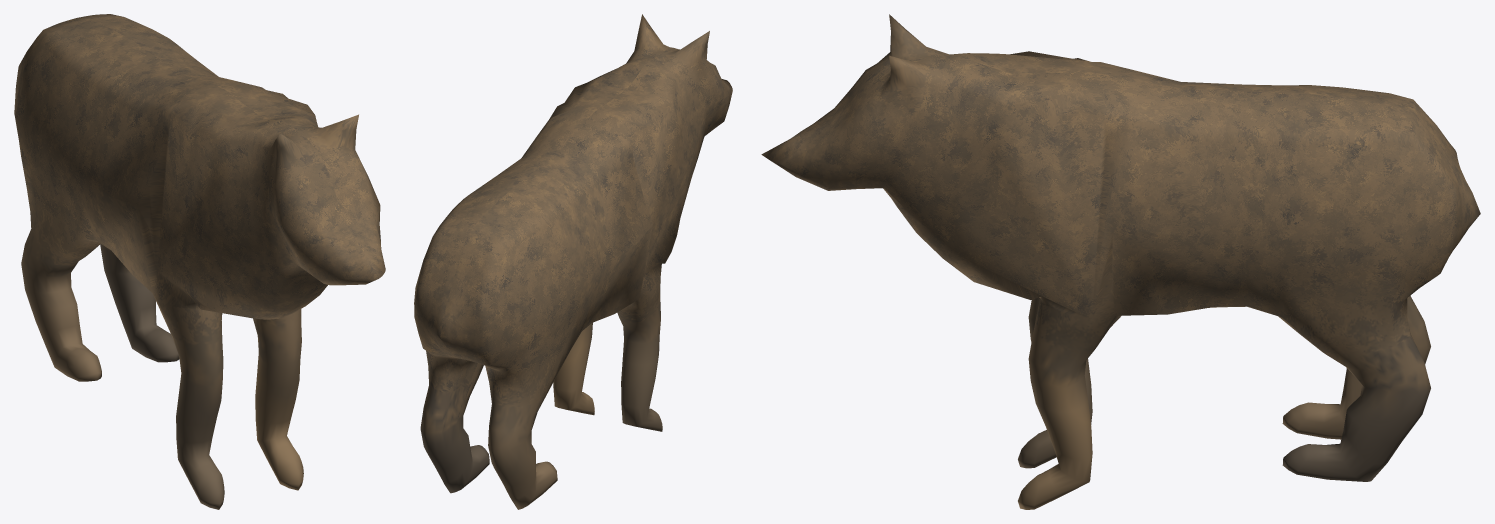
File: piesblend_000035.obj
3 renders of one model, left to right at view 1: azimuth 30°, elevation 25°; view 2: azimuth 150°, elevation 25°; view 3: azimuth 270°, elevation 25°, orthographic. The views are drawn at different scales.
Visible parts, largest first — view 1: Cube; view 2: Cube; view 3: Cube.
Part boxes in pixels (x1,y1,x2,y2): Cube: [14, 14, 385, 509]; Cube: [414, 14, 732, 509]; Cube: [761, 14, 1480, 509].
Size of the model in its own units: 2.55 by 6.37 by 9.17.
1 material, 1 textured.
